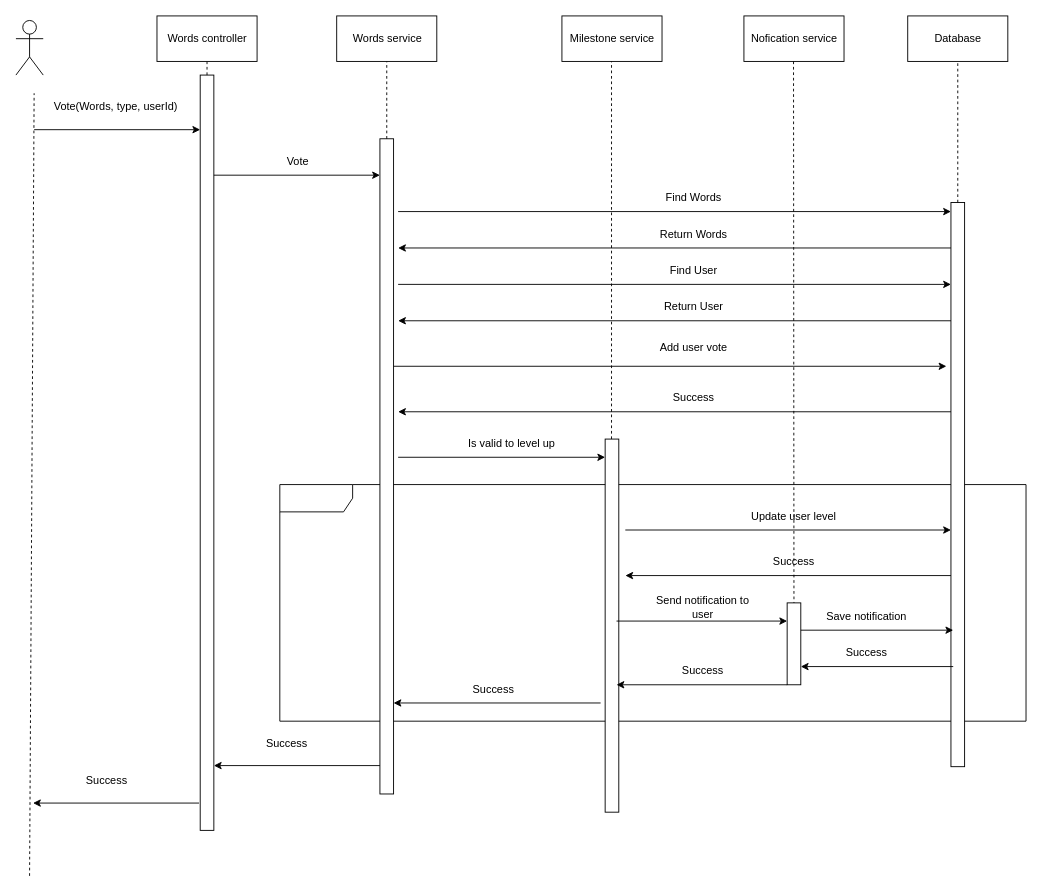
Some shapes in this 1042 by 893 pixel diagram are drawn without their labels. The shapes that lost their labels are listed below. From the top down, each one's box as (x1, y1, x2, y2) in pixels, then its label:
(15, 20, 43, 75): User
(279, 484, 1026, 721): Level up
